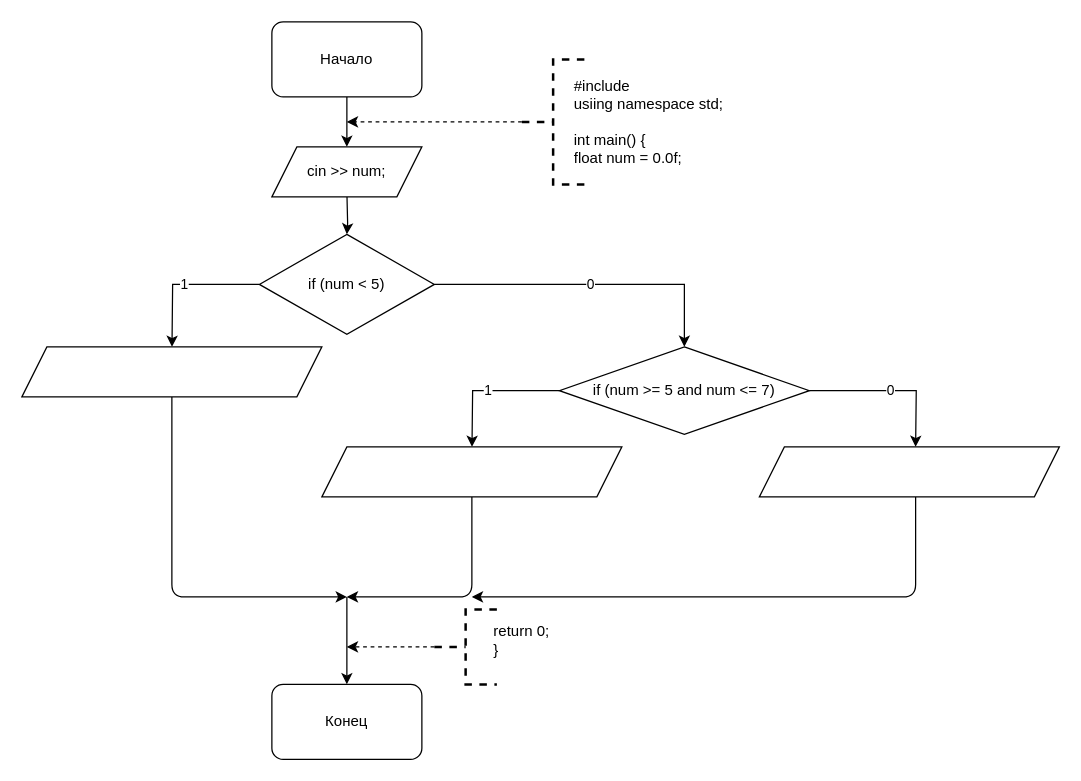
The diagram is 1081 pixels wide and 781 high, and some of its shapes have lost their labels. The centre of each missing label's shape, as x and y in pixels:
cout << "Result: " << num * 3 << endl;: point 171,371
cout << "Result: " << num + 3 << endl;: point 908,471
cout << "Result: " << num / 10 << endl;: point 471,471
